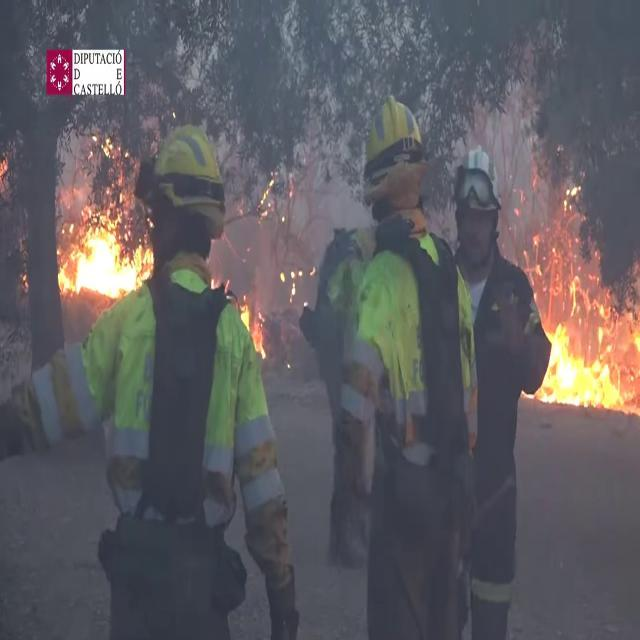Fire: (538, 256, 640, 414), (59, 215, 152, 303), (238, 289, 266, 362)
